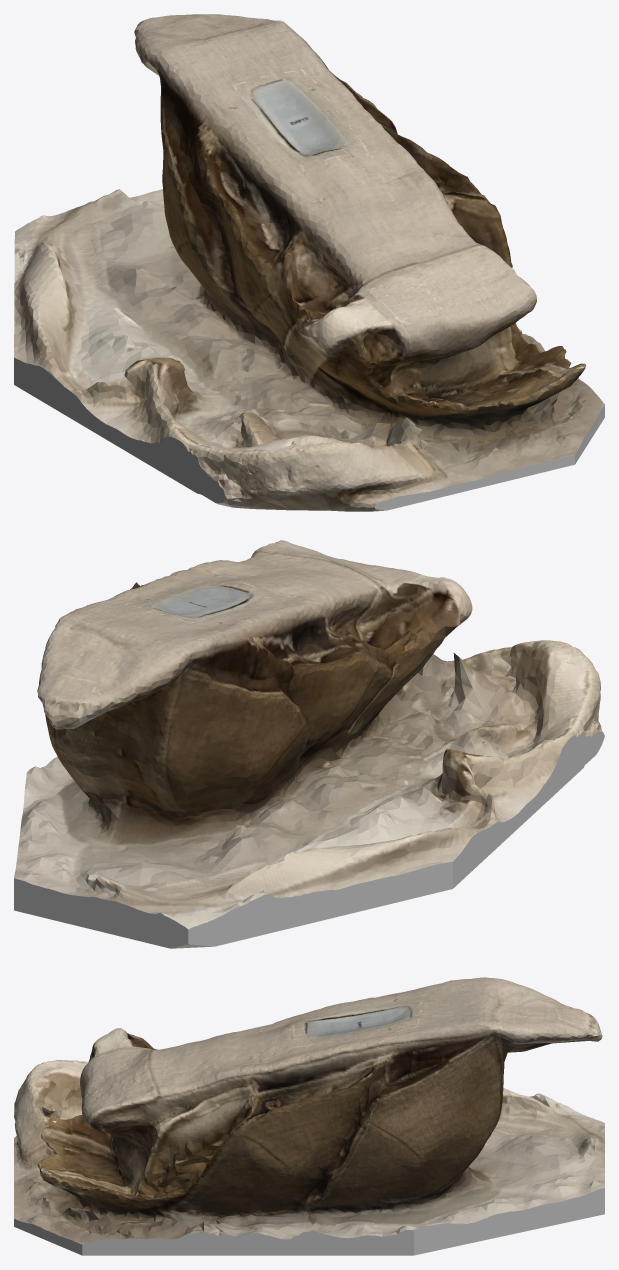
Rendered from backside.glb.
3 views of the same model, one above another, from view 1: azimuth 30°, elevation 25°; view 2: azimuth 150°, elevation 25°; view 3: azimuth 270°, elevation 25° (orthographic). The views are drawn at different scales.
Size of the model in its own units: 0.0313 by 0.0175 by 0.0469.
1 material, 1 textured.
